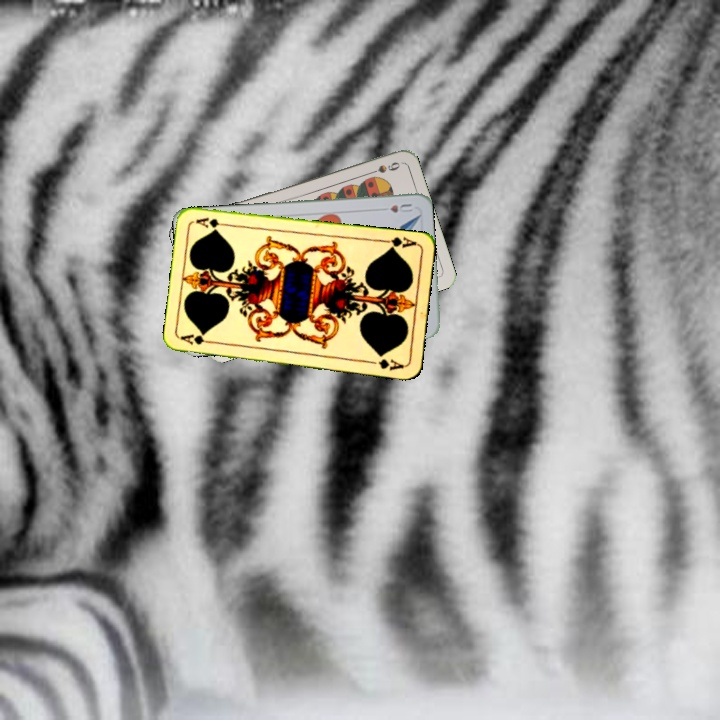GA: (378, 233, 419, 252), (178, 331, 218, 347)
HU: (386, 200, 415, 215)
S9: (363, 158, 403, 178)
